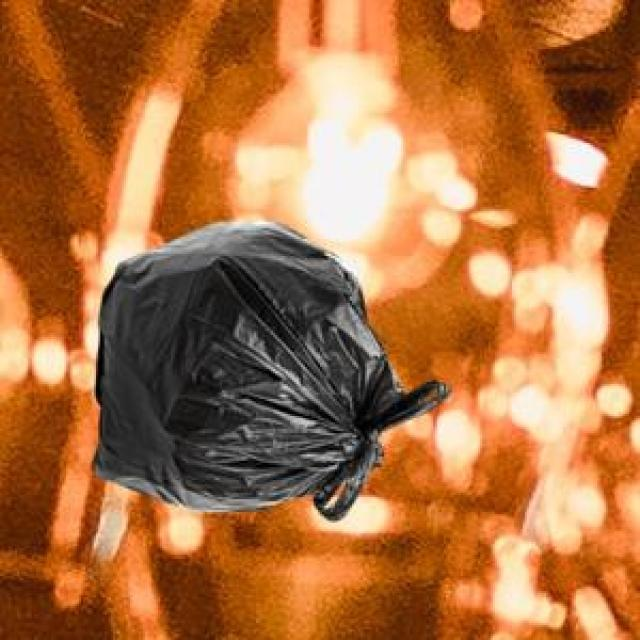Trashbag: (83, 200, 454, 524)
